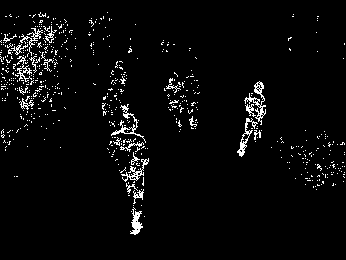person: (109, 114, 157, 241), (241, 80, 269, 164), (186, 69, 207, 136), (161, 72, 184, 133)
